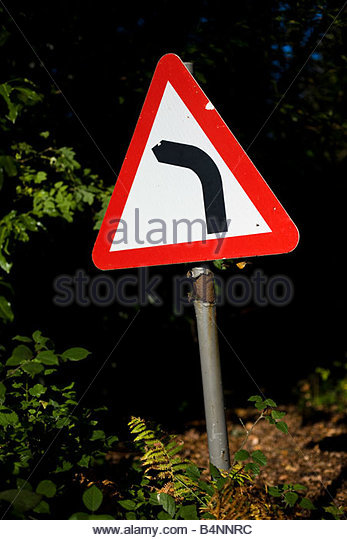Bend_to_left: (88, 54, 301, 272)
